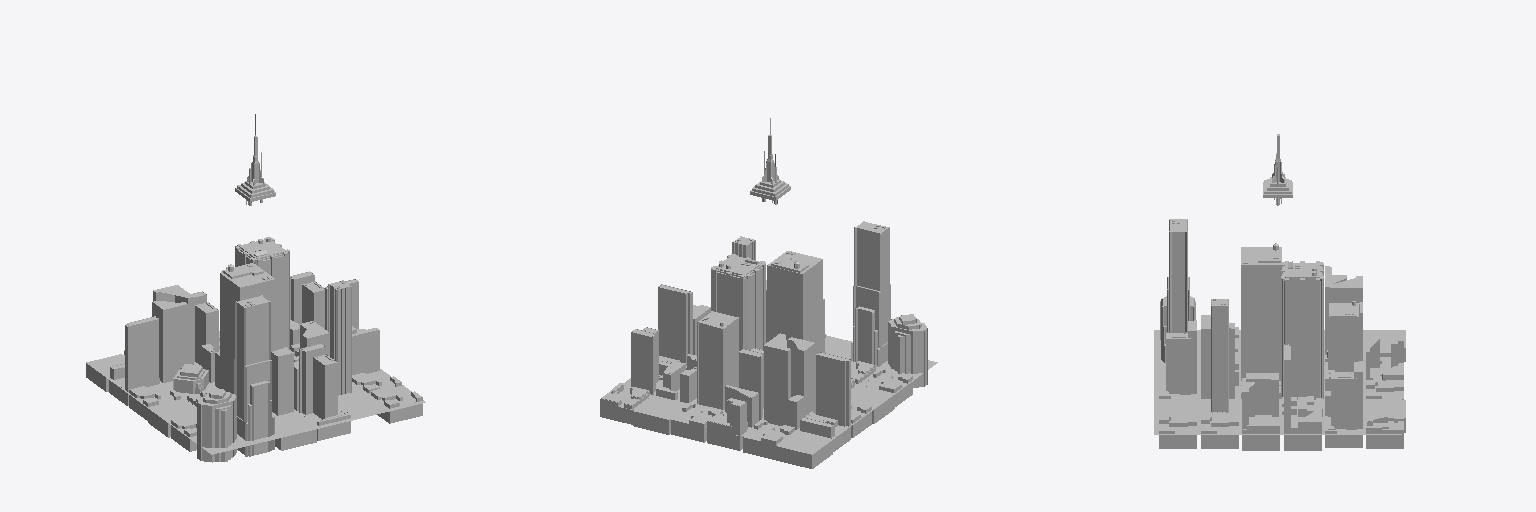
File: building-5.obj
3 views of the same model, side by side, from view 1: azimuth 30°, elevation 25°; view 2: azimuth 150°, elevation 25°; view 3: azimuth 270°, elevation 25° (orthographic).
Parts seen in each view (by area): view 1: Mograph_City_Rig, City-Plane, Xtra.1_4; view 2: Mograph_City_Rig, City-Plane, Xtra.1_4; view 3: Mograph_City_Rig, City-Plane, Xtra.1_4.
Boxes of the visible parts, box(x1,y1,x2,y2) form: Mograph_City_Rig: box(86, 237, 422, 462); City-Plane: box(92, 349, 425, 454); Xtra.1_4: box(235, 114, 275, 201); Mograph_City_Rig: box(600, 221, 927, 468); City-Plane: box(623, 335, 937, 452); Xtra.1_4: box(750, 118, 790, 200); Mograph_City_Rig: box(1158, 219, 1405, 450); City-Plane: box(1154, 330, 1401, 434); Xtra.1_4: box(1263, 134, 1292, 197).
Bounding box in the file's own units: 3005 × 3815 × 3046.